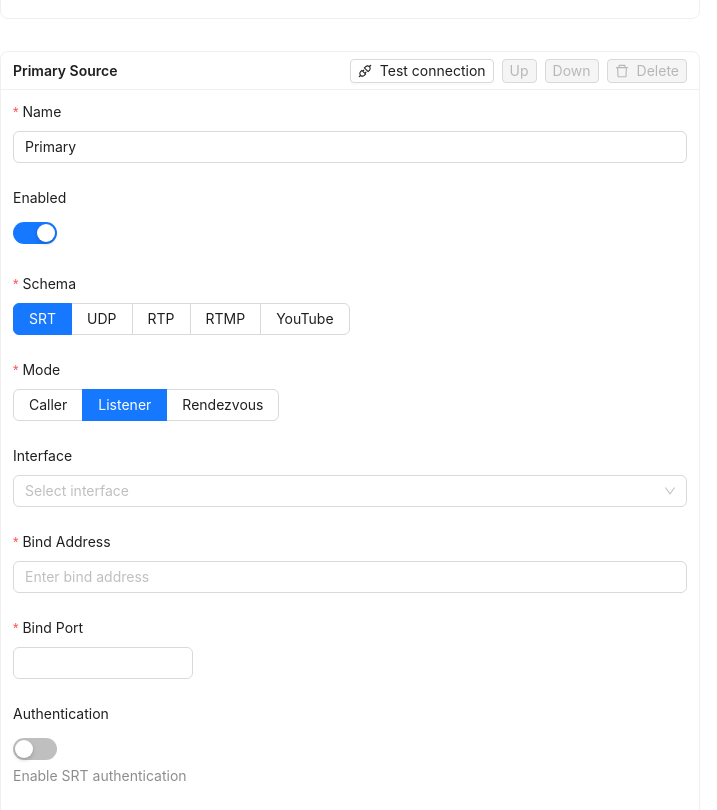
Scenario: Route form validation › shows SRT source IP access controls only for listener mode
The image size is (717, 810).
(page scrolled)
Expected: the text "Primary Source" is shown, [13,62,117,79]
Expected: the field with placeholder "Enter Stream ID" is not shown
Click the radio button labelled "Caller" at (48, 405), box [13,389,83,421]
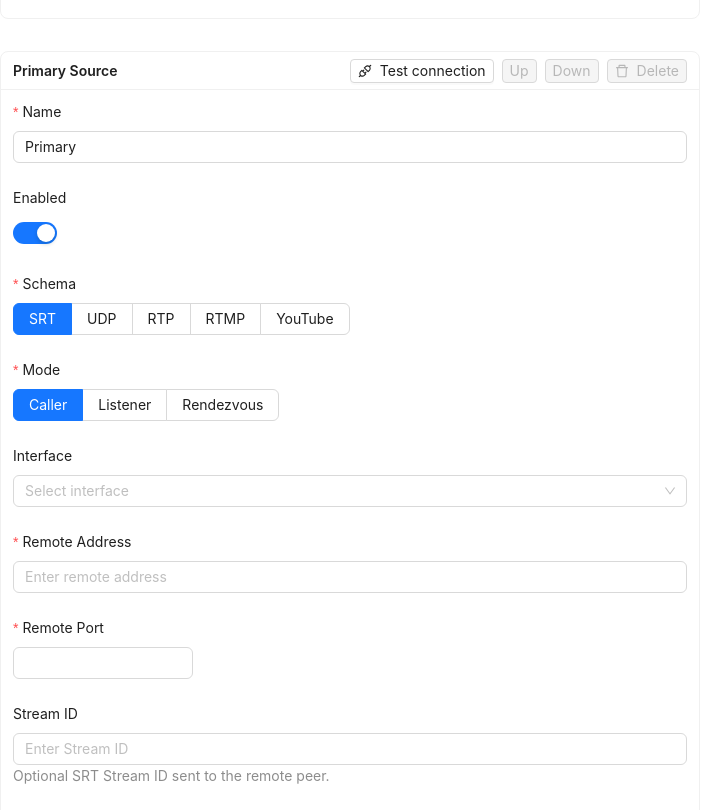
Now the field with placeholder "Enter Stream ID" is shown
Type "#!::r=channel" into the field with placeholder "Enter Stream ID" at (350, 749), box [13,733,687,765]
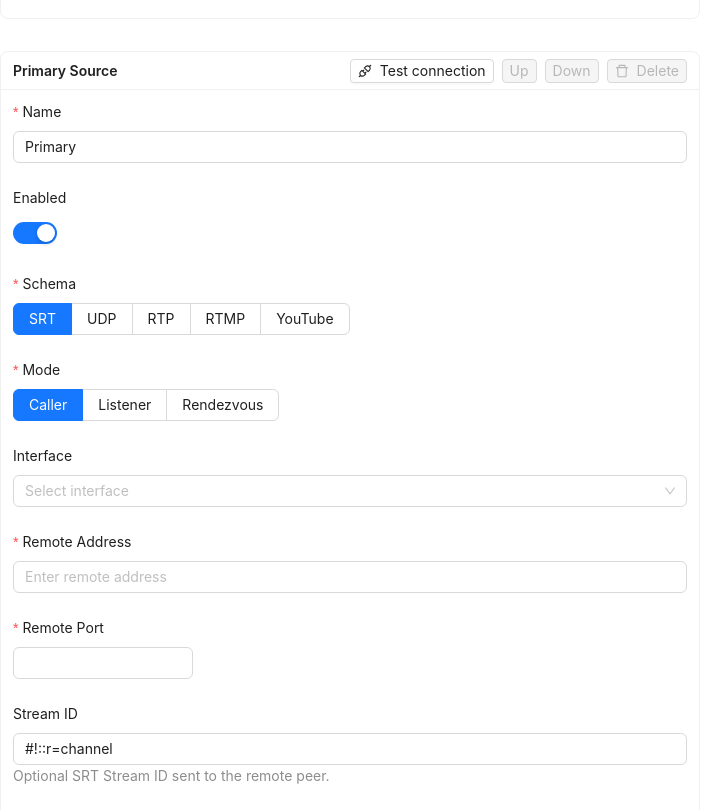
Click the radio button labelled "Listener" at (125, 405), box [82,389,167,421]
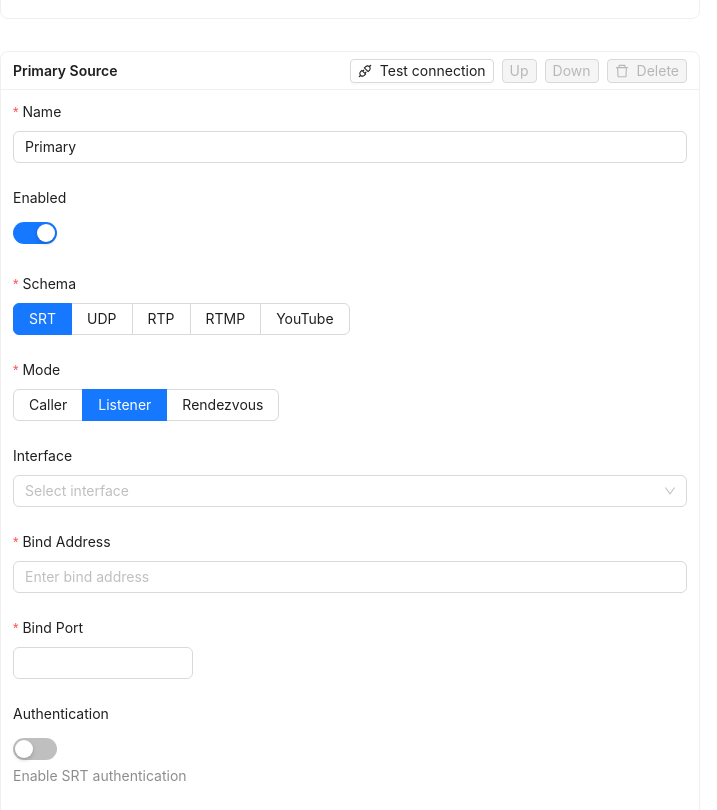
Expected: the field with placeholder "Enter Stream ID" is not shown
Click the radio button labelled "Caller" at (48, 405), box [13,389,83,421]
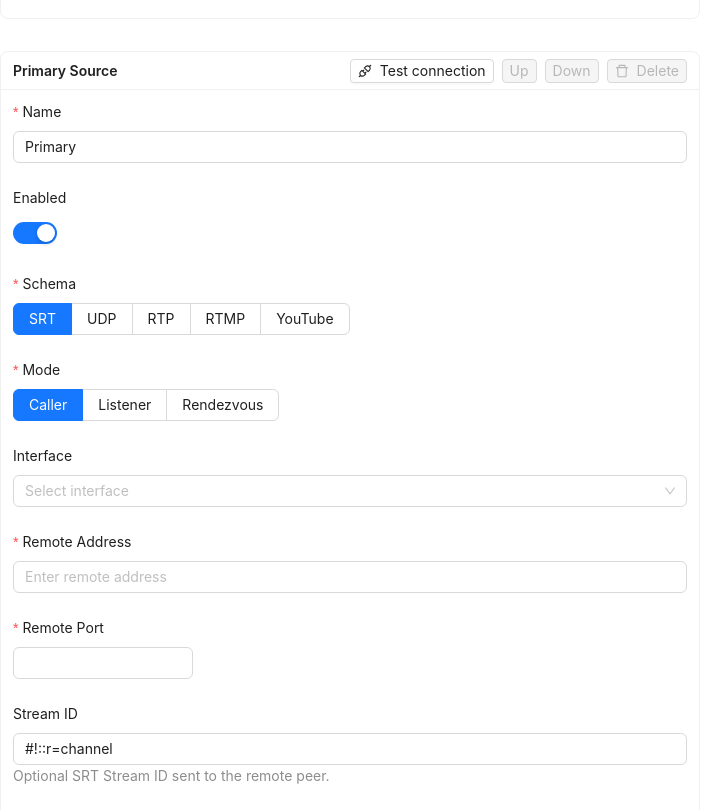
Now the field with placeholder "Enter Stream ID" holds "#!::r=channel", box [13,733,687,765]
